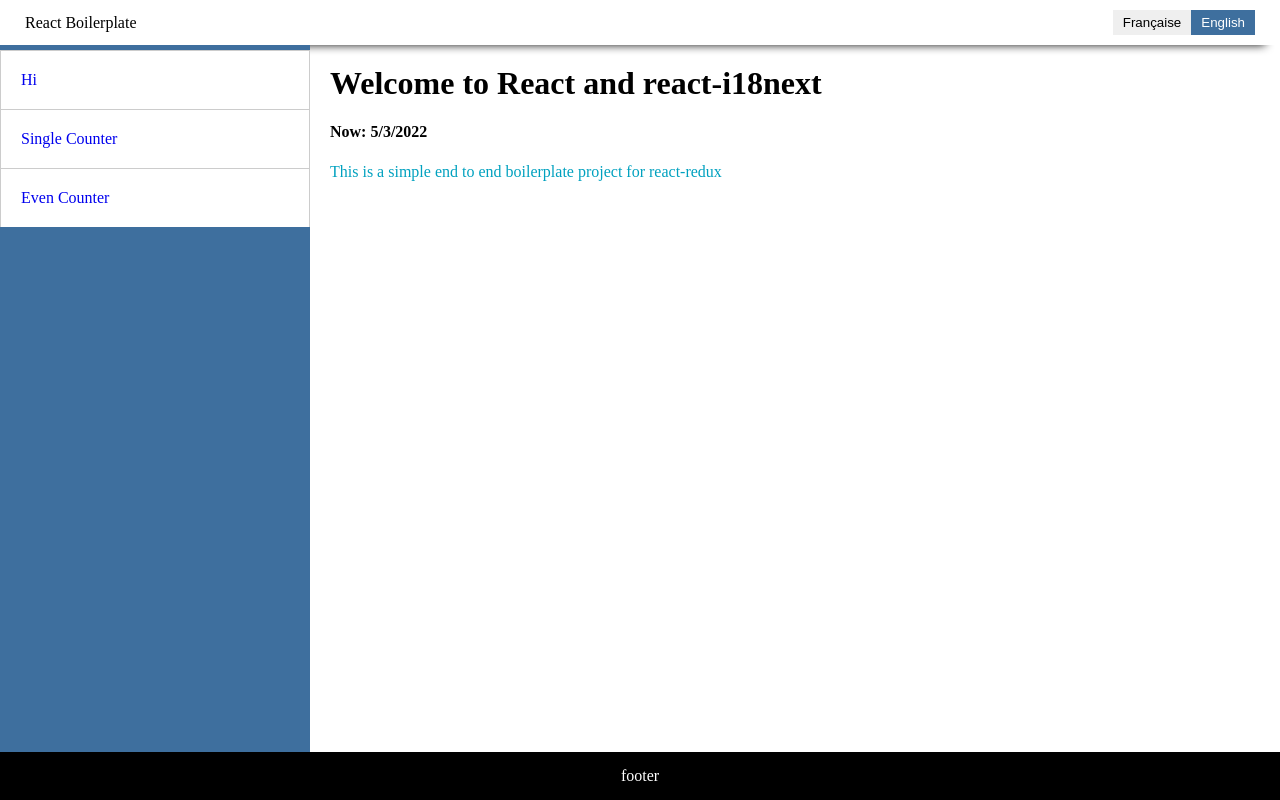
Test: Homepage › Checking the front page loads
This screenshot has width=1280, height=800.
Expected: the heading "Welcome to React and react-i18next" is shown, [330,65,822,101]
What coordinates should you click on to do the following:
click the button "Française"
I would click on:
 (1153, 23)
Its box is [1113,10,1192,35].
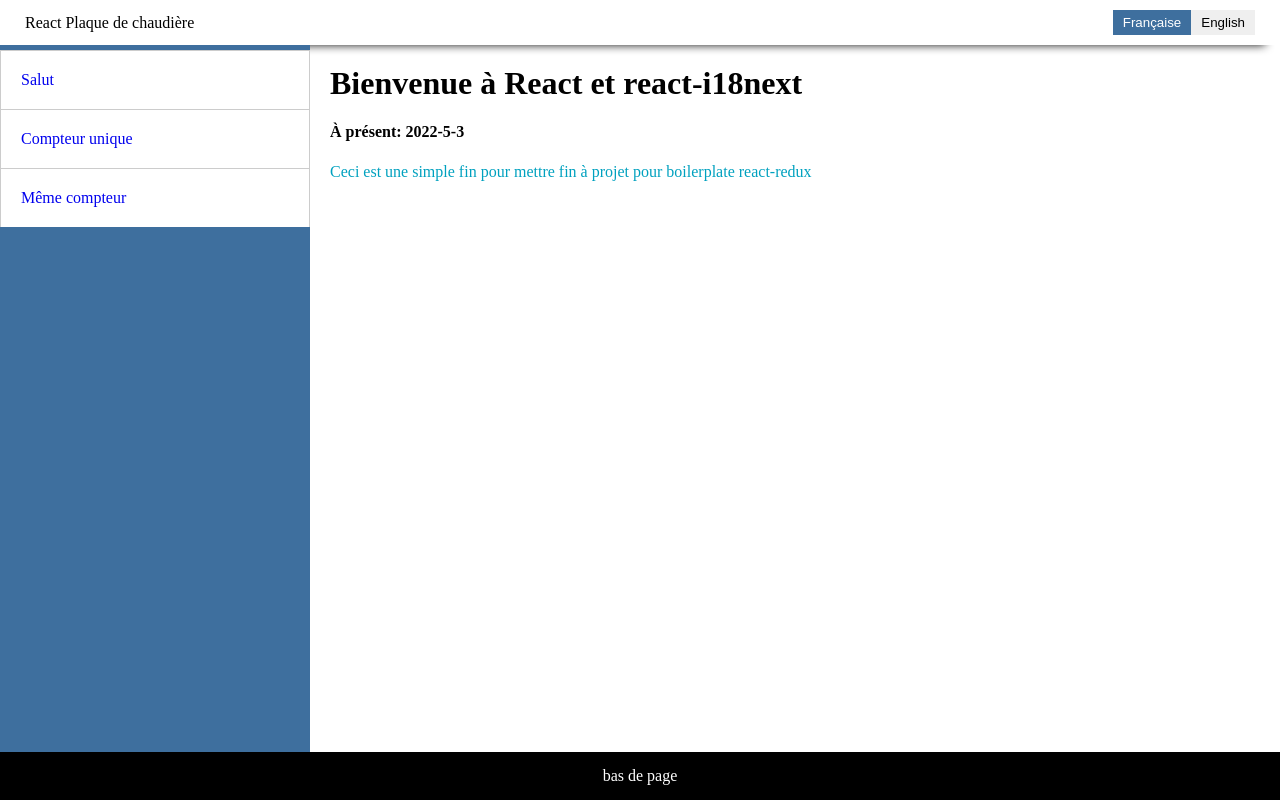
Now the heading "Bienvenue à React et react-i18next" is shown, box [330,65,802,101]
